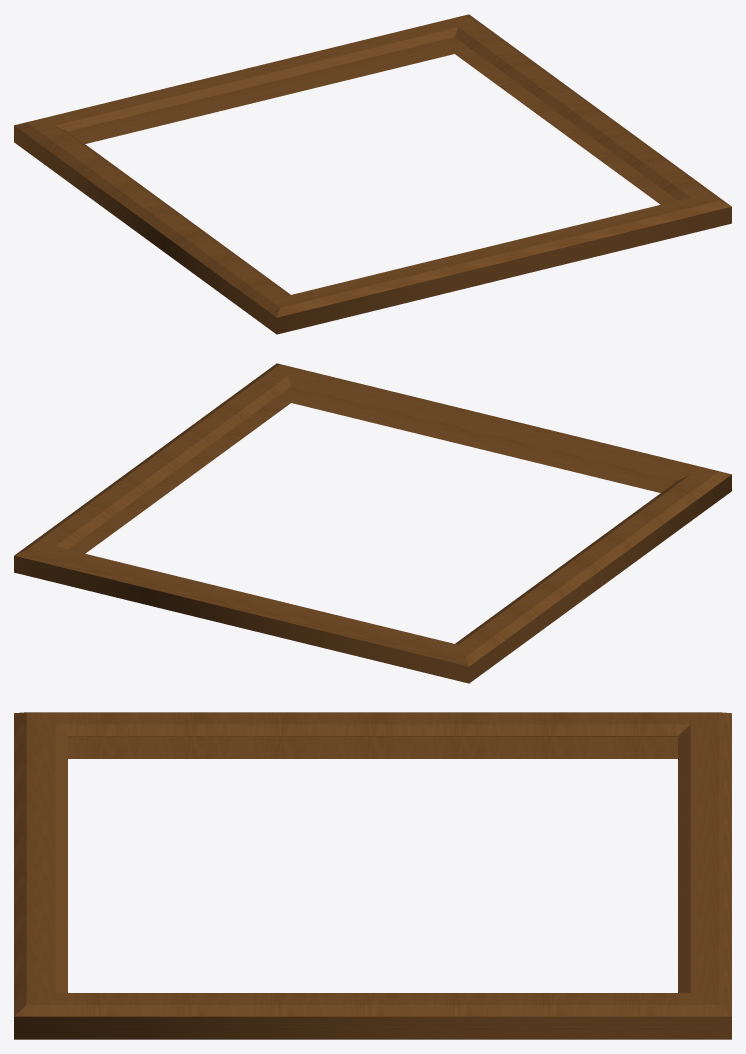
File: borda.FBX
The picture shows the model from 3 angles, top to bottom: view 1: azimuth 30°, elevation 25°; view 2: azimuth 150°, elevation 25°; view 3: azimuth 270°, elevation 25°; orthographic projection. The views are drawn at different scales.
Parts seen in each view (by area): view 1: Tube01; view 2: Tube01; view 3: Tube01.
Boxes of the visible parts, <box> form: Tube01: <box>14,14,731,334</box>; Tube01: <box>14,363,731,683</box>; Tube01: <box>14,712,731,1039</box>.
Bounding box in the file's own units: 28.24 × 1.27 × 28.24.
Materials: 1 (1 with a texture image).
